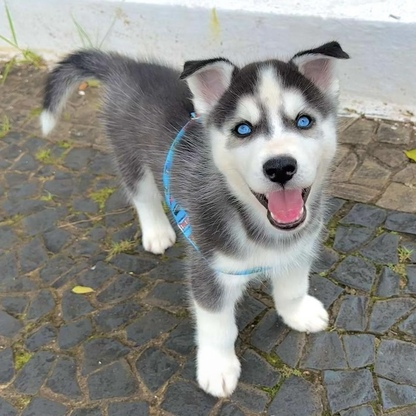husky: (29, 31, 356, 402)
